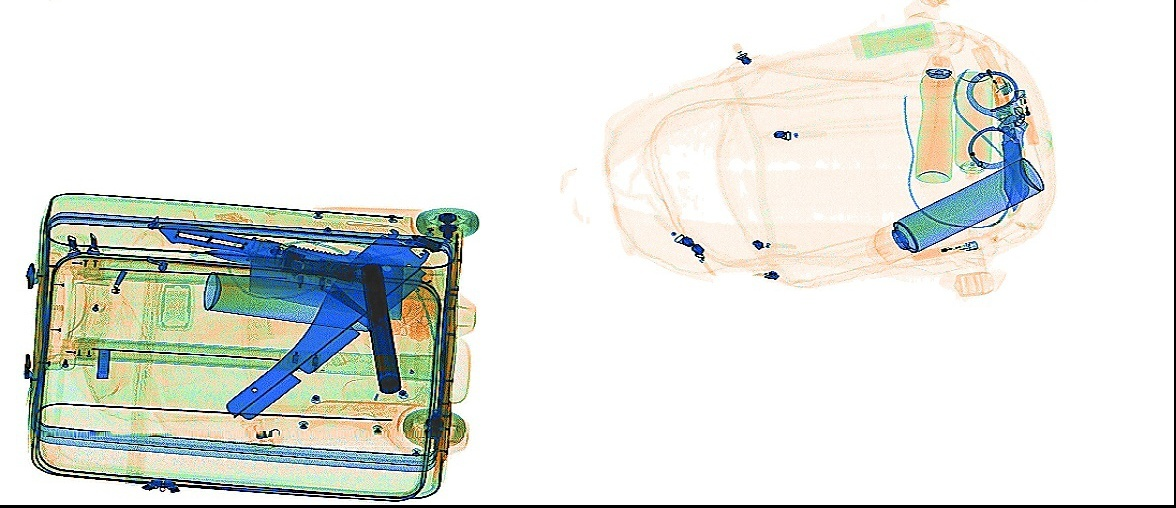handcuffs: (961, 65, 1029, 169)
knife: (152, 219, 405, 322), (201, 245, 375, 281), (987, 72, 1029, 218), (1001, 126, 1031, 200)
lighter: (964, 42, 1012, 95), (1012, 84, 1040, 145), (908, 236, 979, 260)
pressure: (869, 154, 1043, 266), (201, 270, 412, 337), (911, 48, 955, 185), (947, 66, 995, 181)
scissors: (312, 276, 368, 318)
